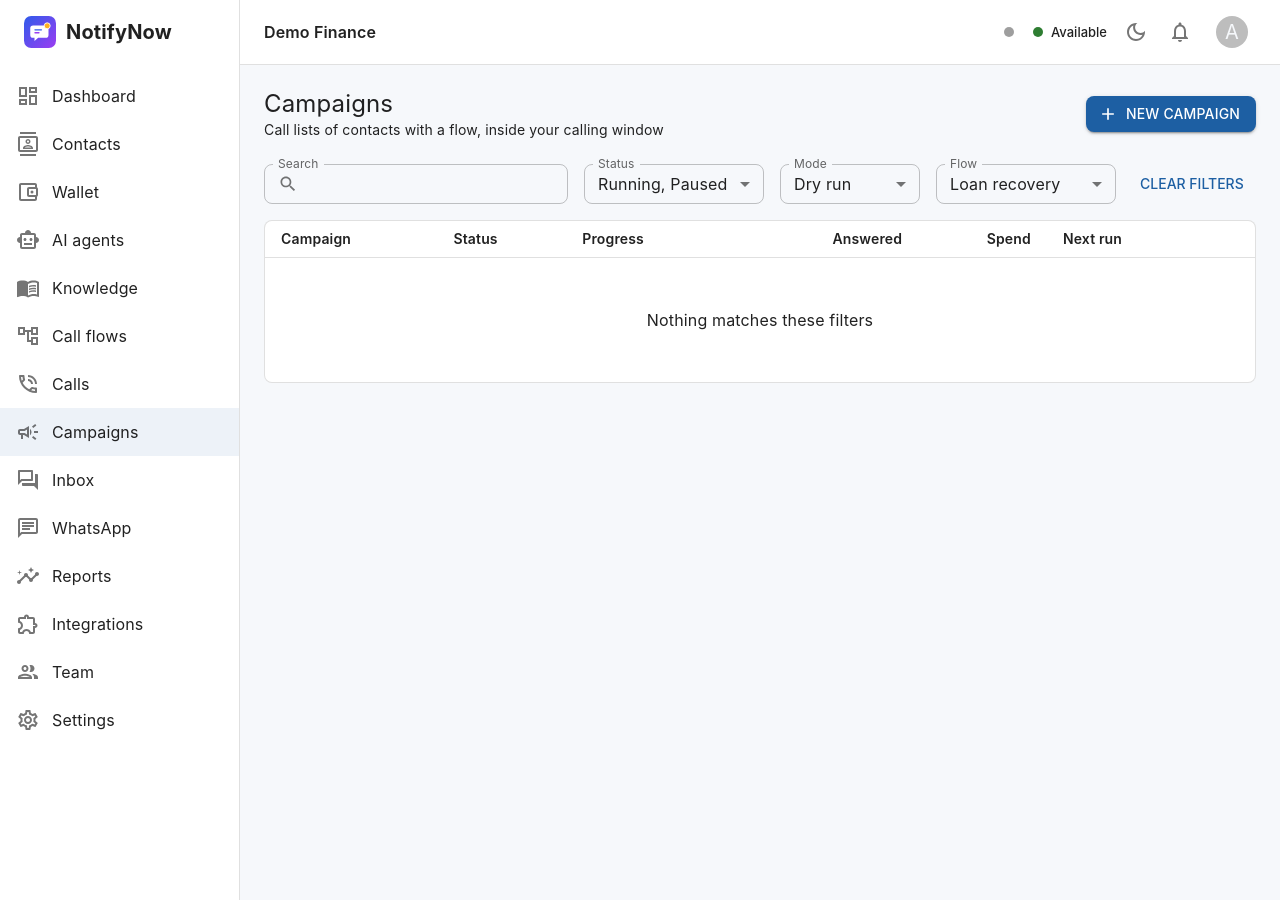
Test: /campaigns list › filters live in the URL; clear filters; empty states by role
The width and height of the screenshot is (1280, 900).
Expected: the heading "Nothing matches these filters" is shown, 647,310 -> 873,330
Type "oct" into the field labelled "Search" at (437, 184), box 306,164 -> 568,204
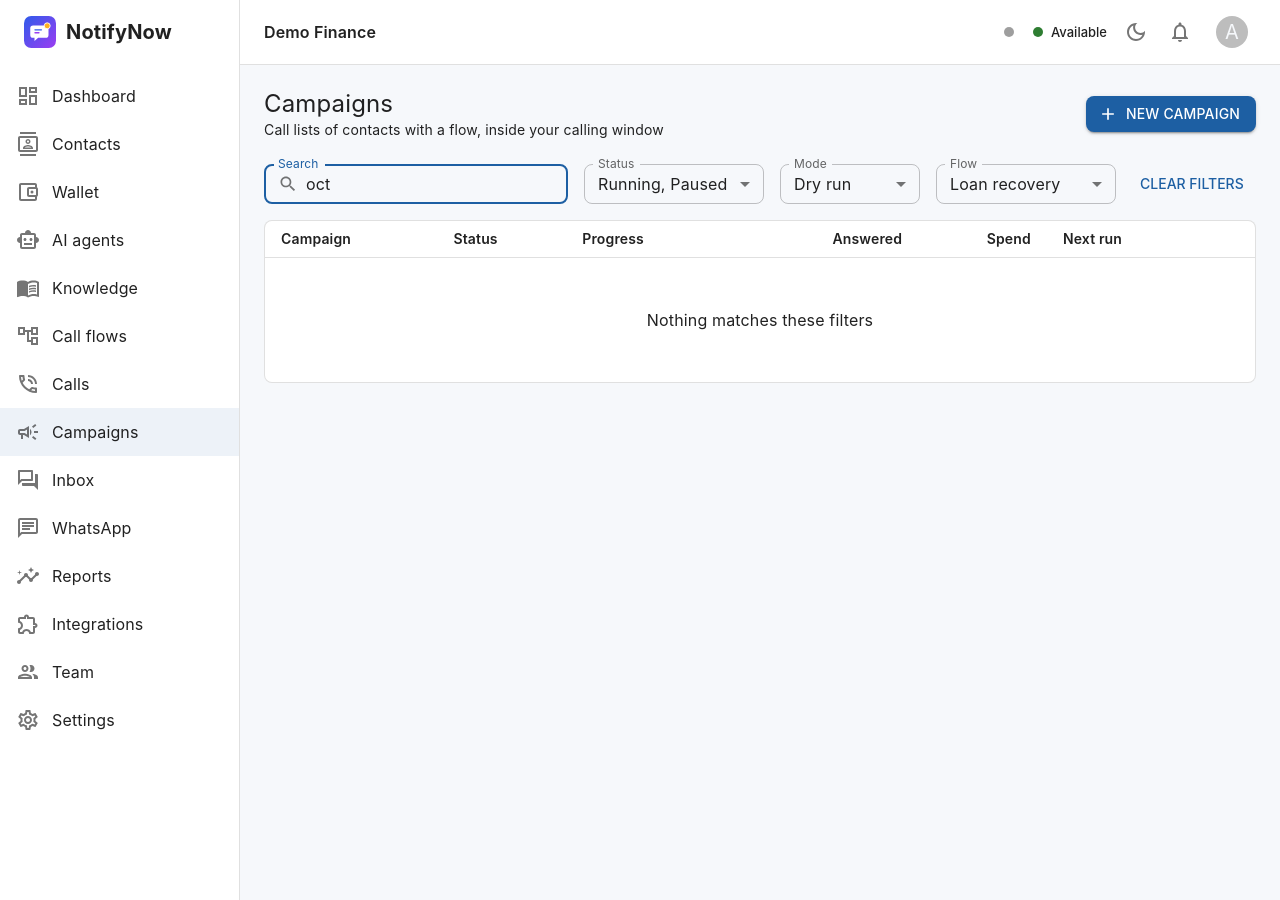
Click the button "Clear filters" at (1192, 184), box 1132,166 -> 1252,202
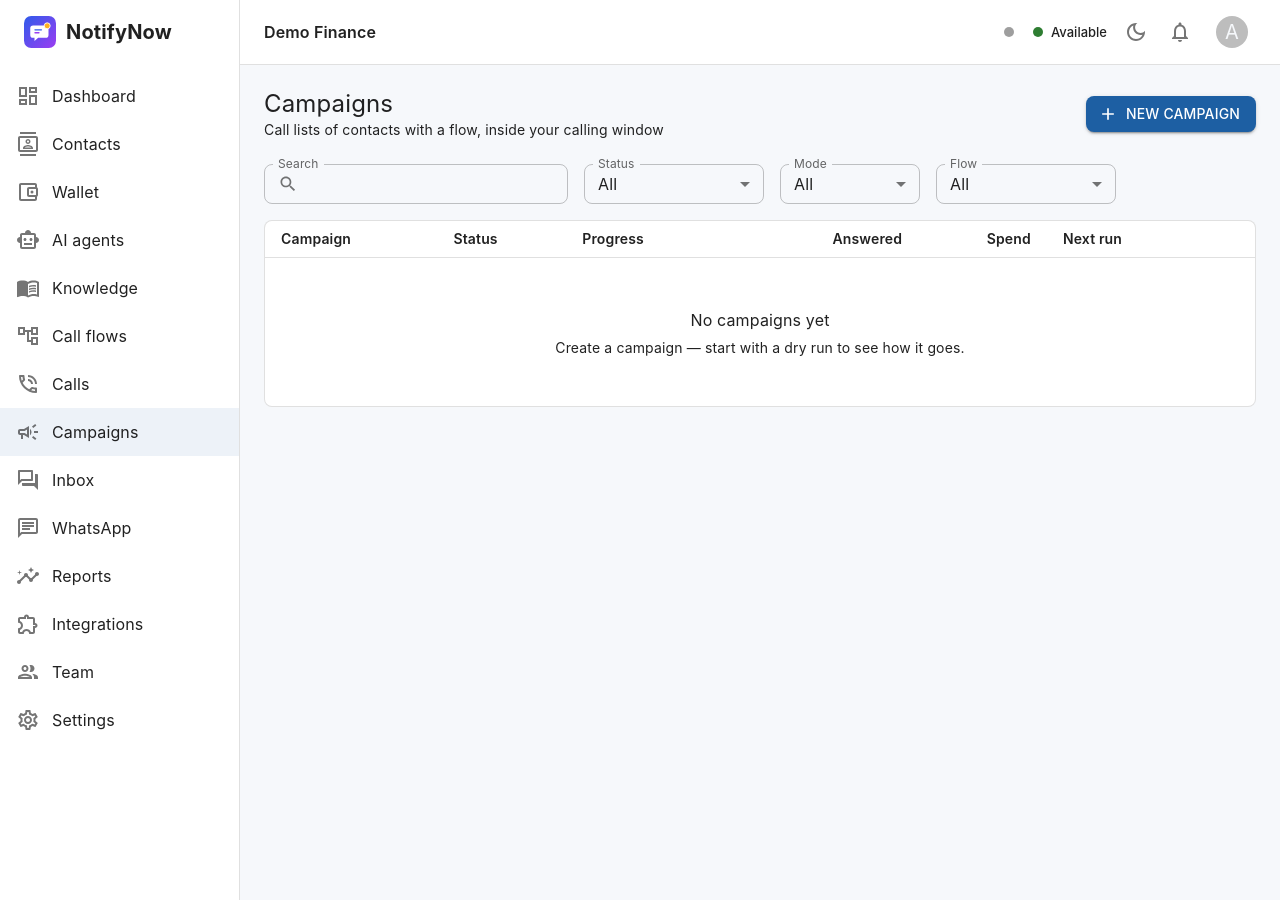
Result: the heading "No campaigns yet" is shown at 690,310 -> 830,330
Result: the text "Create a campaign — start with a dry run to see how it goes." is shown at 555,339 -> 965,356
